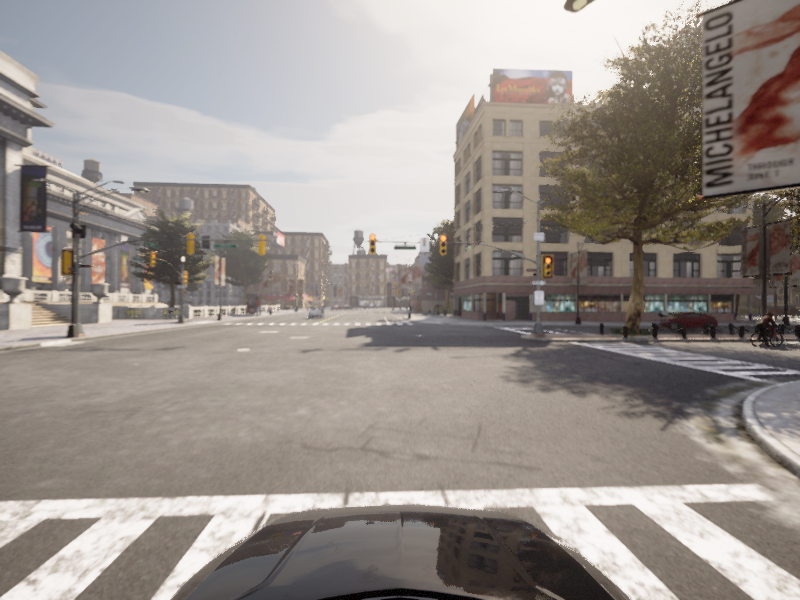vehicle: (745, 312, 789, 347), (646, 311, 722, 331)
